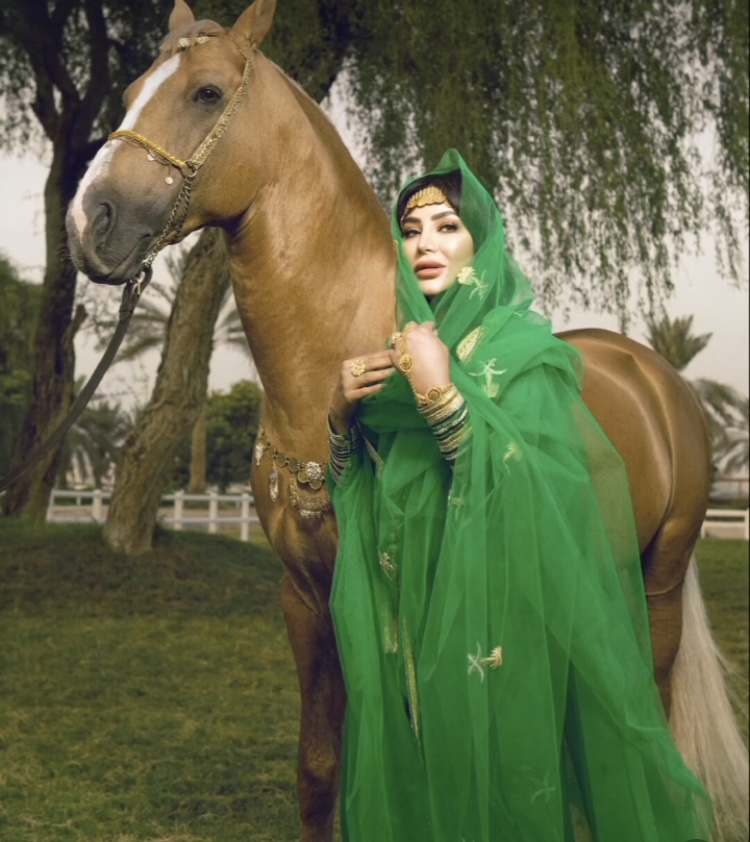Saudi_Founding_Day: (325, 146, 720, 842)
